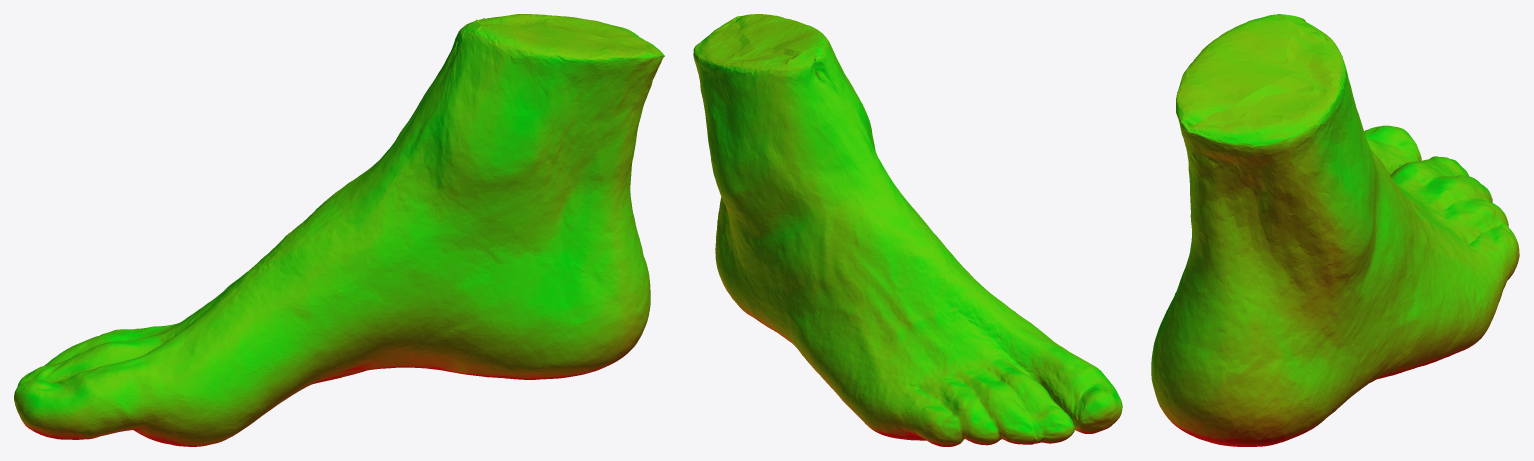
Rendered from fitted_foot_visibility.glb.
The picture shows the model from 3 angles, left to right: view 1: azimuth 30°, elevation 25°; view 2: azimuth 150°, elevation 25°; view 3: azimuth 270°, elevation 25°; orthographic projection. The views are drawn at different scales.
Visible parts, largest first — view 1: fitted_foot_visibility.ply; view 2: fitted_foot_visibility.ply; view 3: fitted_foot_visibility.ply.
Boxes of the visible parts, x1,y1,x2,y2 form: fitted_foot_visibility.ply: (14,14,664,446); fitted_foot_visibility.ply: (693,14,1122,446); fitted_foot_visibility.ply: (1151,14,1519,446).
Bounding box in the file's own units: 0.2547 × 0.1619 × 0.1277.
